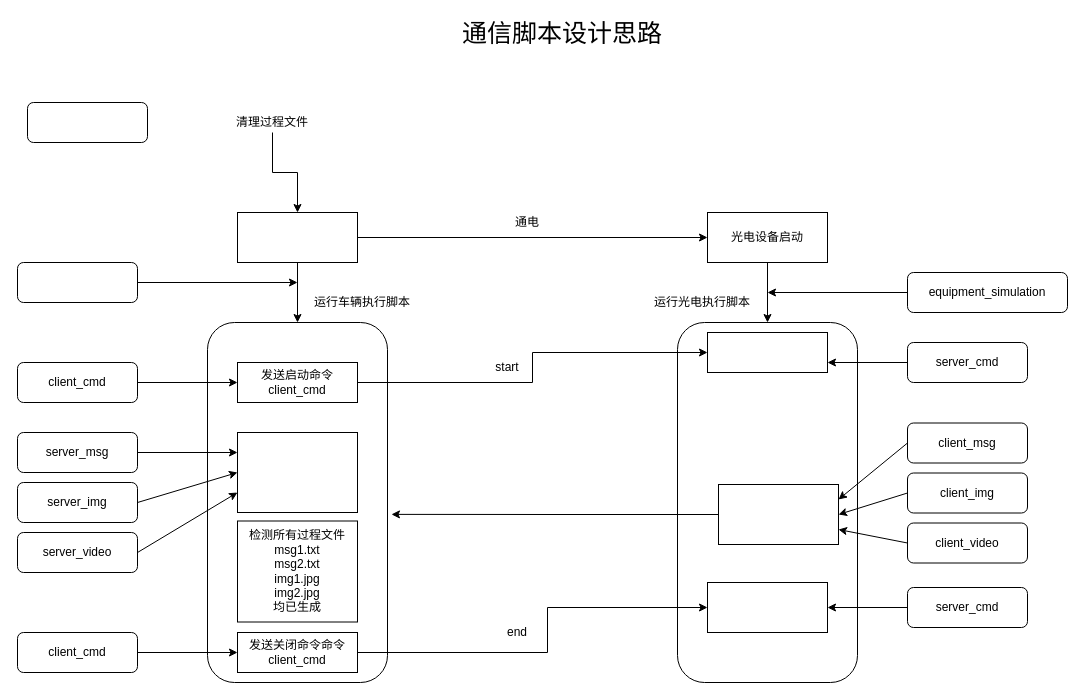
Image size: 1085x700. Some labels were removed from this diagram. Each missing label, with the centre of its shape:
init_kill: the point at 87,122
test_vehicle: the point at 77,282
启动监听程序 server_img1 server_img2 server_msg1 server_msg2: the point at 297,472
执行侦查过程 并完成信息发送: the point at 778,514
车辆到达侦查点: the point at 297,237
运行命令监听程序 server_cmd: the point at 767,352
重新启动监听程序 server_cmd: the point at 767,607
